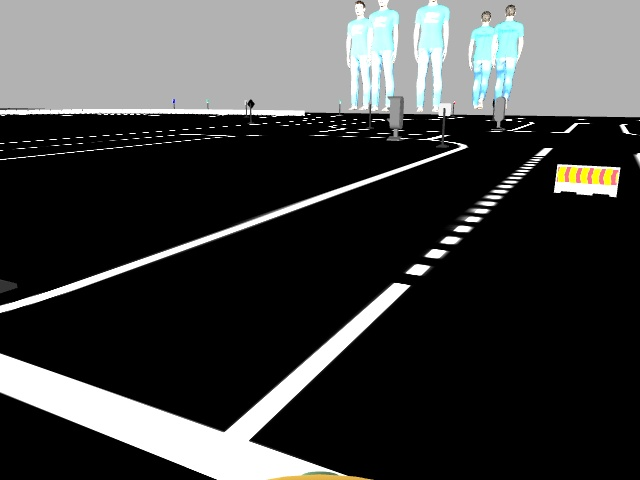ClosedRoadStand: (556, 163, 616, 195)
